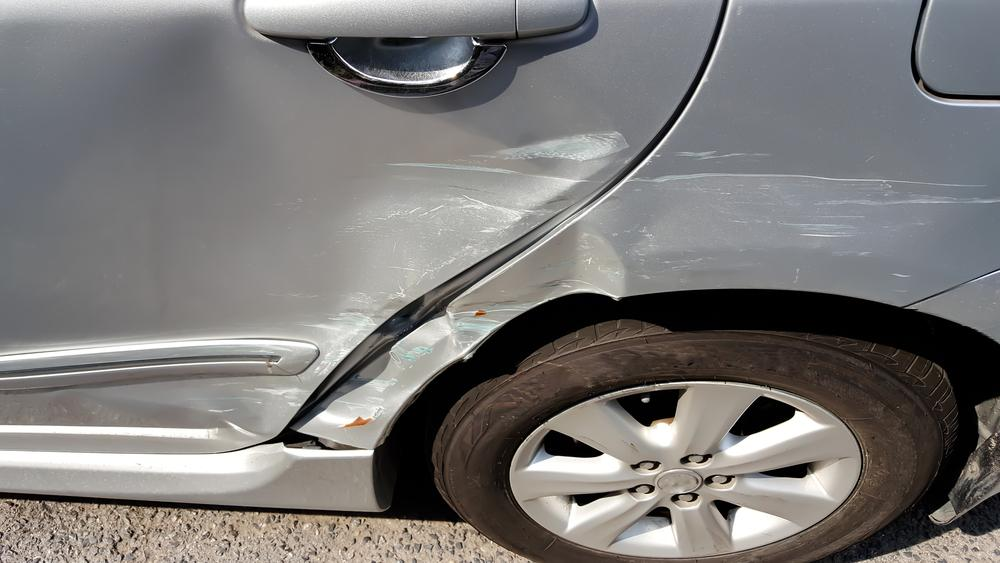dent: (33, 13, 627, 439), (320, 217, 627, 430)
scratch: (579, 150, 1000, 284)
